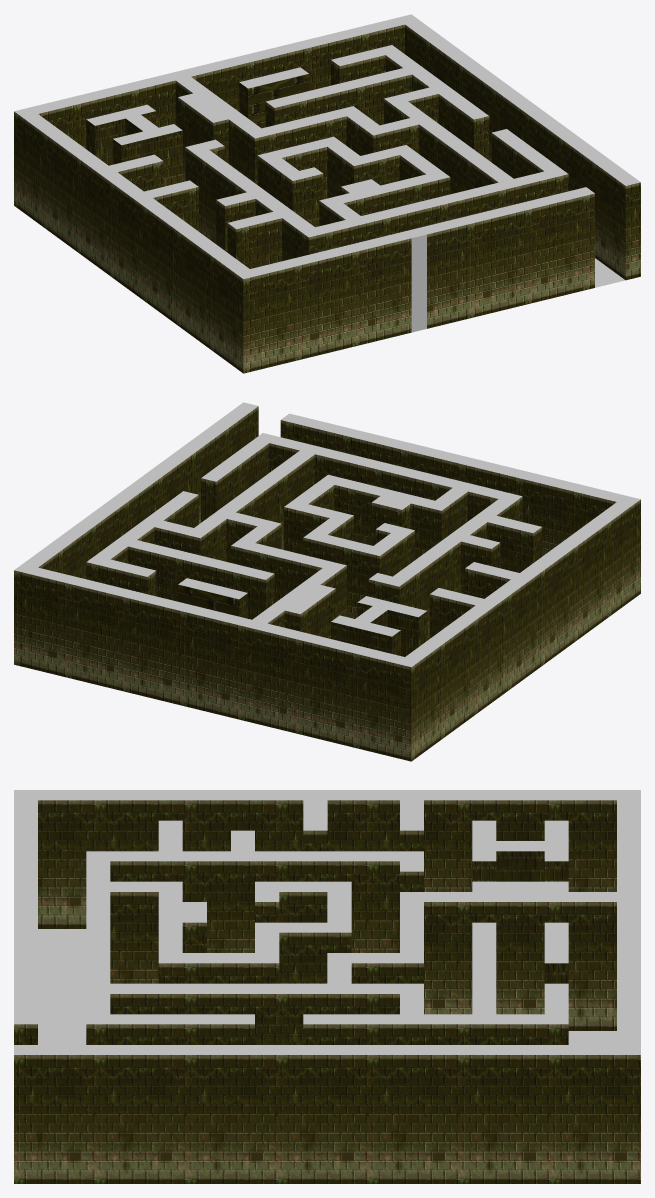
The model's file is maze1.fbx.
3 renders of one model, top to bottom at view 1: azimuth 30°, elevation 25°; view 2: azimuth 150°, elevation 25°; view 3: azimuth 270°, elevation 25°, orthographic. The views are drawn at different scales.
Visible parts, largest first — view 1: Cube; view 2: Cube; view 3: Cube.
Boxes of the visible parts, x1,y1,x2,y2 form: Cube: [14, 14, 640, 373]; Cube: [14, 402, 640, 761]; Cube: [14, 790, 640, 1183].
Size of the model in its own units: 170 by 38.53 by 170.
